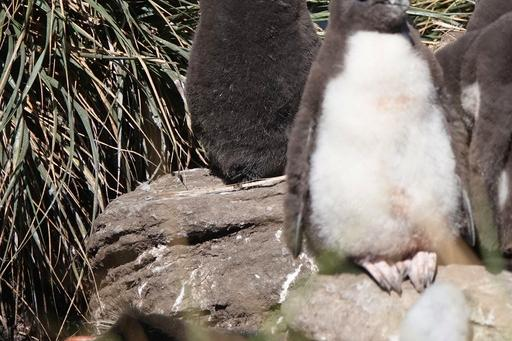Southern Rockhopper Penguin: (405, 0, 512, 61)
